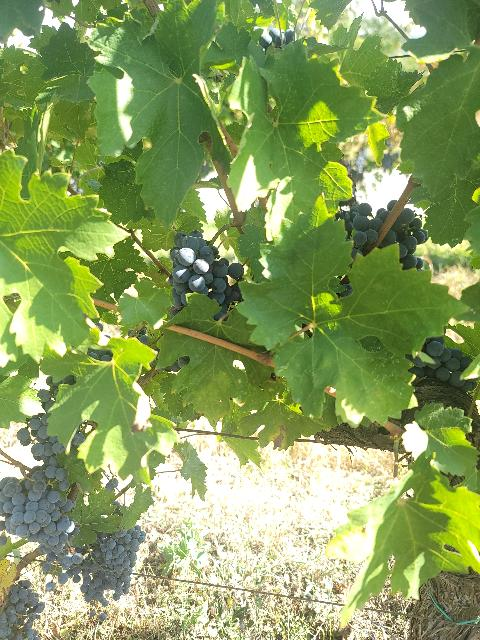grapes: (0, 464, 76, 561), (169, 230, 244, 321), (91, 525, 145, 600), (0, 580, 45, 640)
